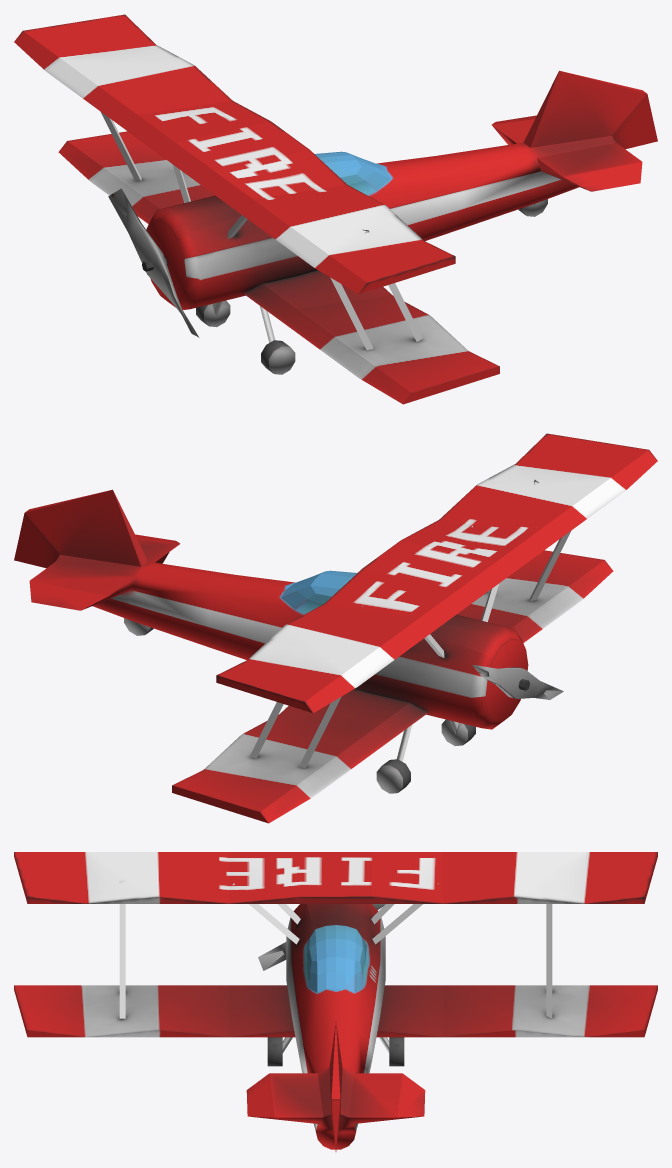
The model's file is og-biplane.glb.
3 views of the same model, one above another, from view 1: azimuth 30°, elevation 25°; view 2: azimuth 150°, elevation 25°; view 3: azimuth 270°, elevation 25° (orthographic). The views are drawn at different scales.
Visible parts, largest first — view 1: biplane; view 2: biplane; view 3: biplane.
Part boxes in pixels (box(x1,y1,x2,y2)): biplane: box(14, 14, 657, 404); biplane: box(14, 433, 657, 823); biplane: box(14, 852, 657, 1151).
Bounding box in the file's own units: 11.18 × 4.23 × 13.
1 material, 1 textured.
